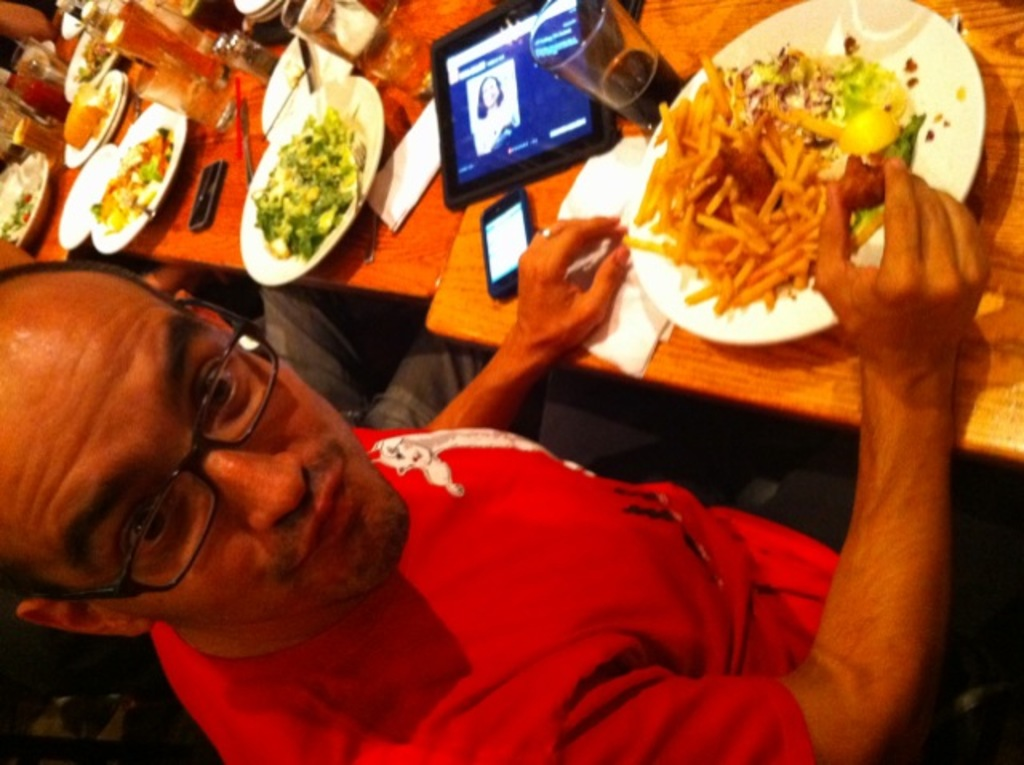French fries: (651, 51, 939, 313)
